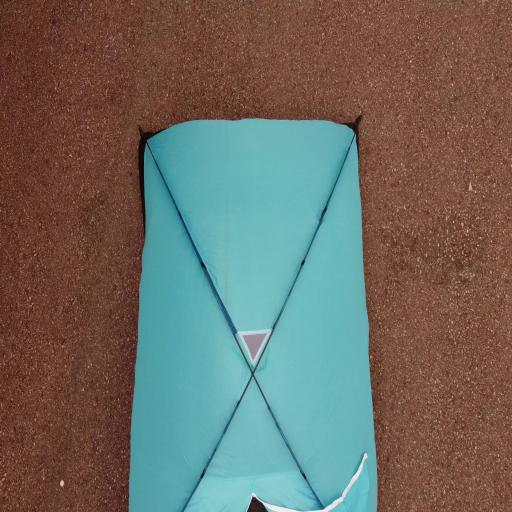tent: (124, 94, 390, 512)
